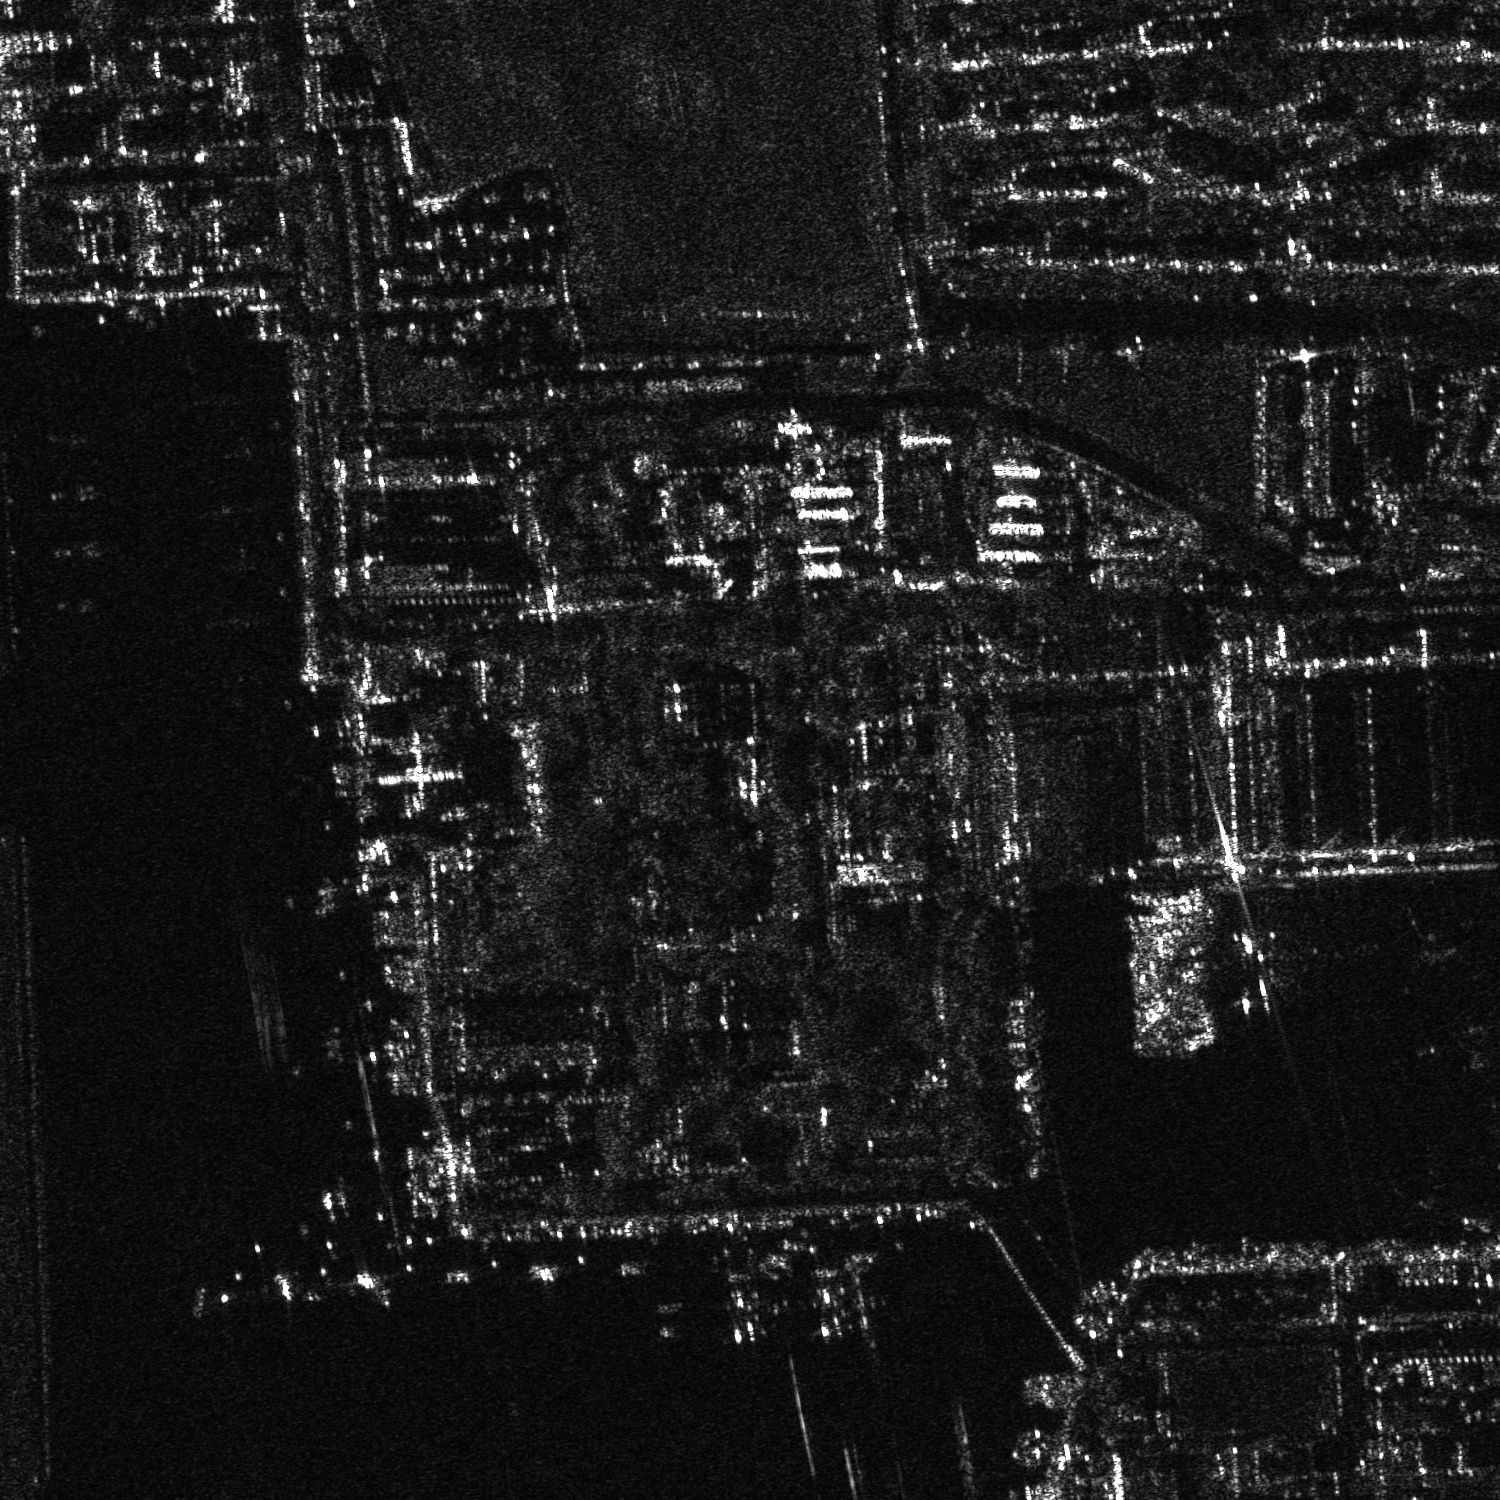ARJ21: (707, 1266, 782, 1346), (43, 537, 113, 566), (51, 591, 104, 620)
Boeing737: (1223, 926, 1301, 1016), (799, 1264, 868, 1343), (339, 1262, 405, 1312)
other: (1359, 907, 1462, 995), (45, 475, 107, 510)
